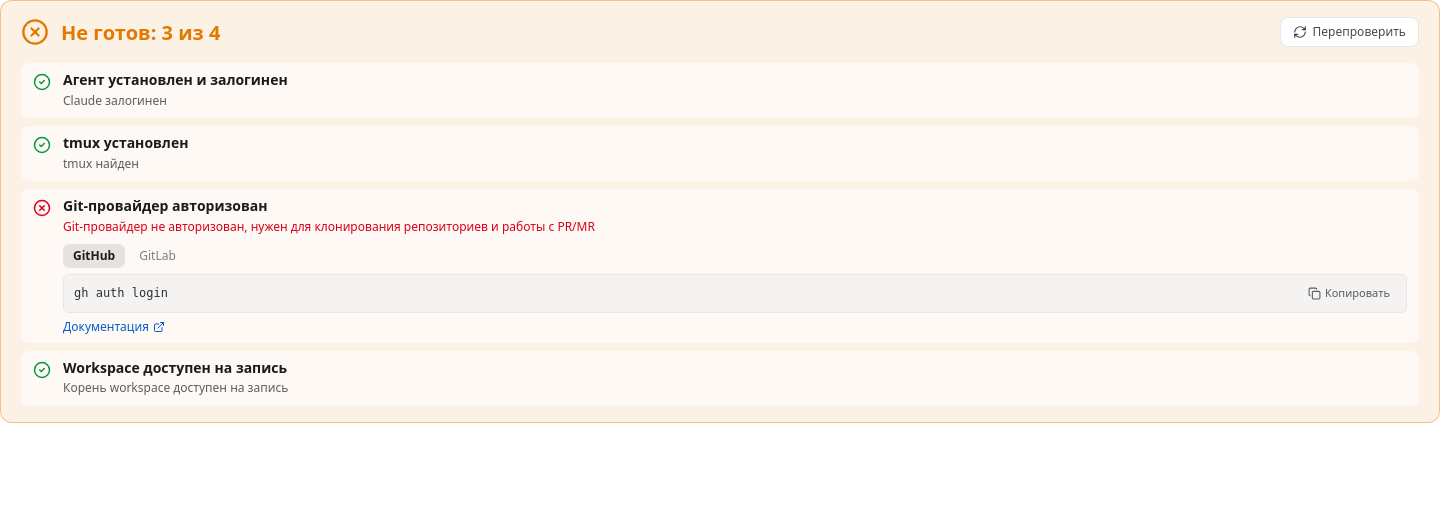
Test: ReadinessPanel › не отправляет невалидный GitLab host из онбординга
Click the tab "GitLab" at (158, 256), box [129, 244, 186, 268]
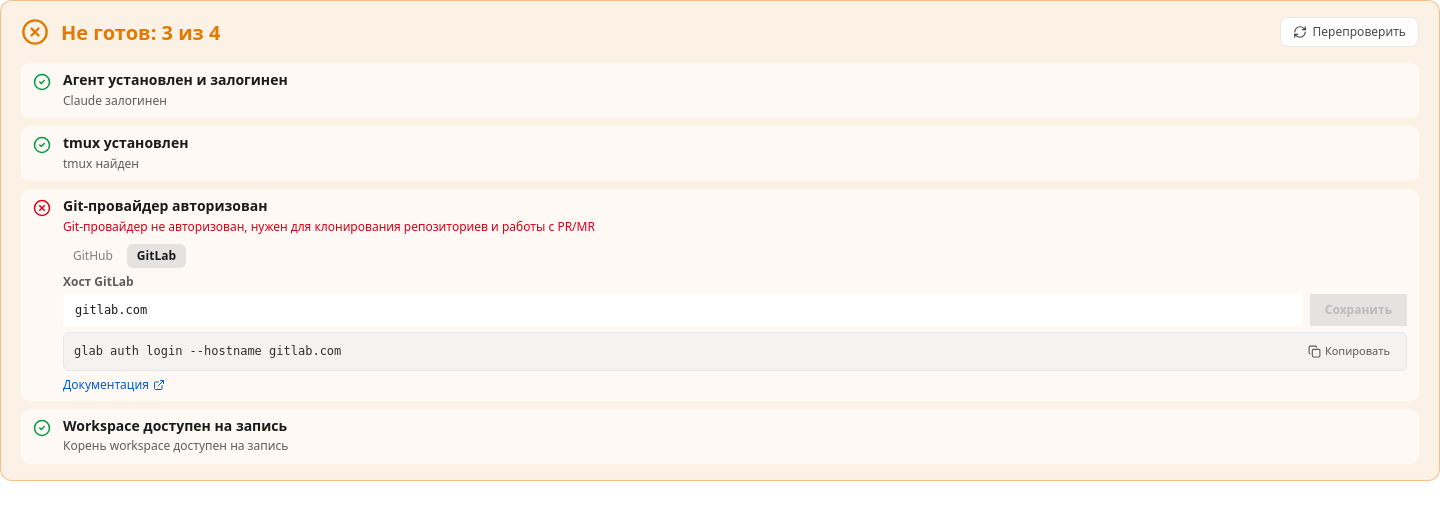
Type "https://gitlab.ati.st" into the field with test id "gitlab-host-input" at (682, 310), box [63, 294, 1302, 326]
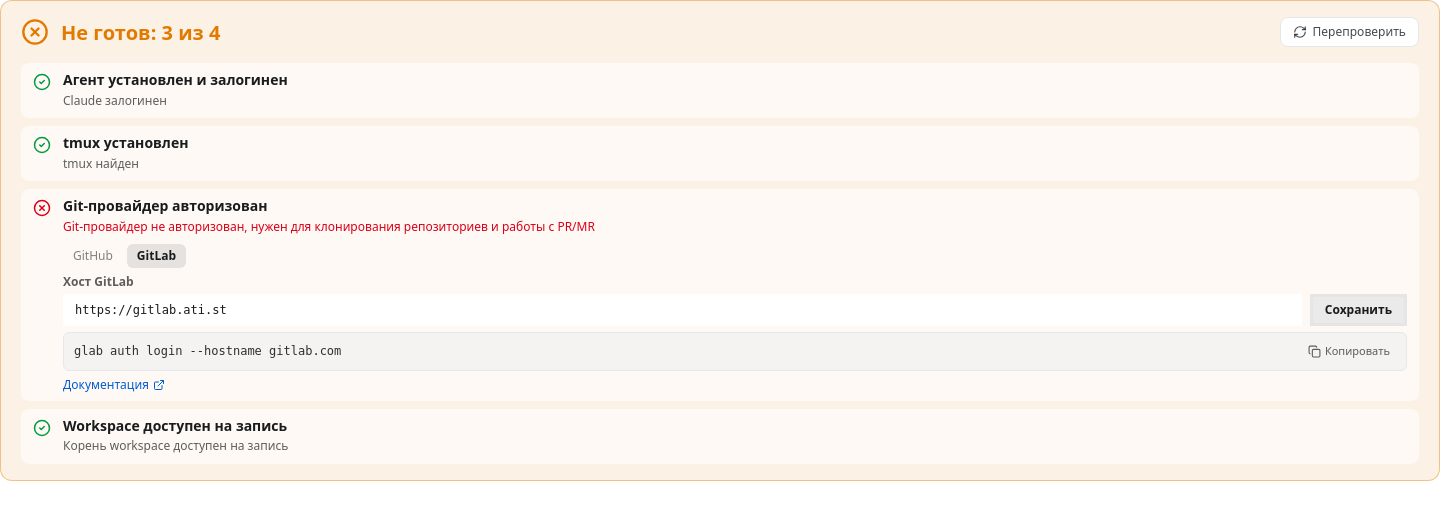
Click the button with test id "gitlab-host-save" at (1358, 310), box [1310, 294, 1407, 326]
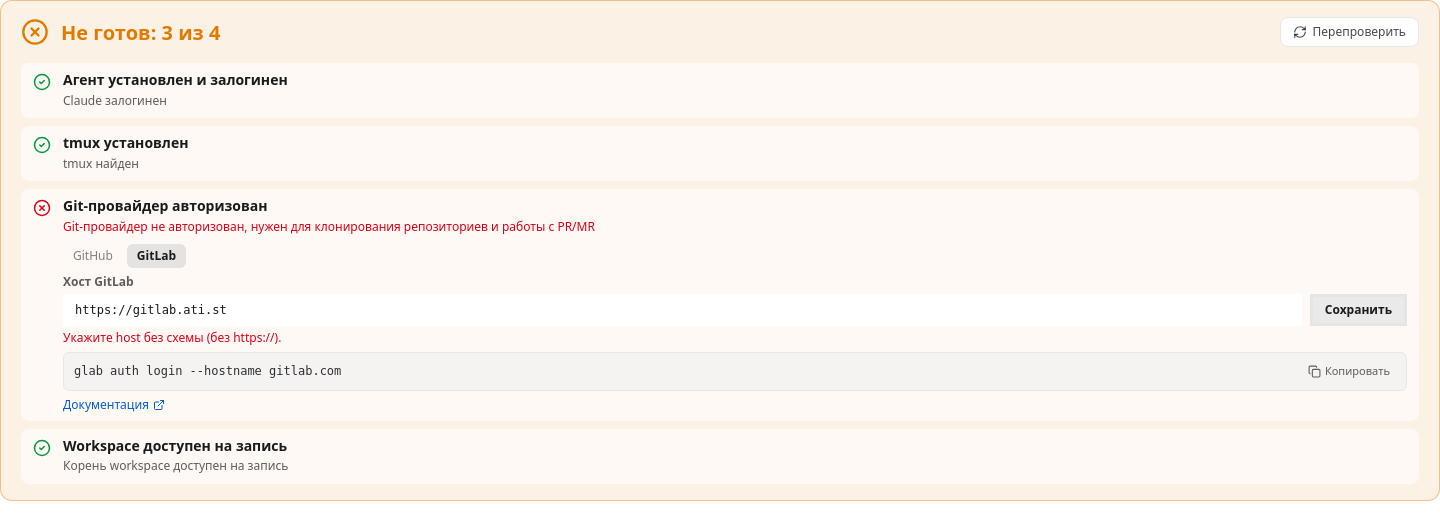
Expected: the message with test id "gitlab-host-error" shows "без схемы", [63, 329, 281, 346]
